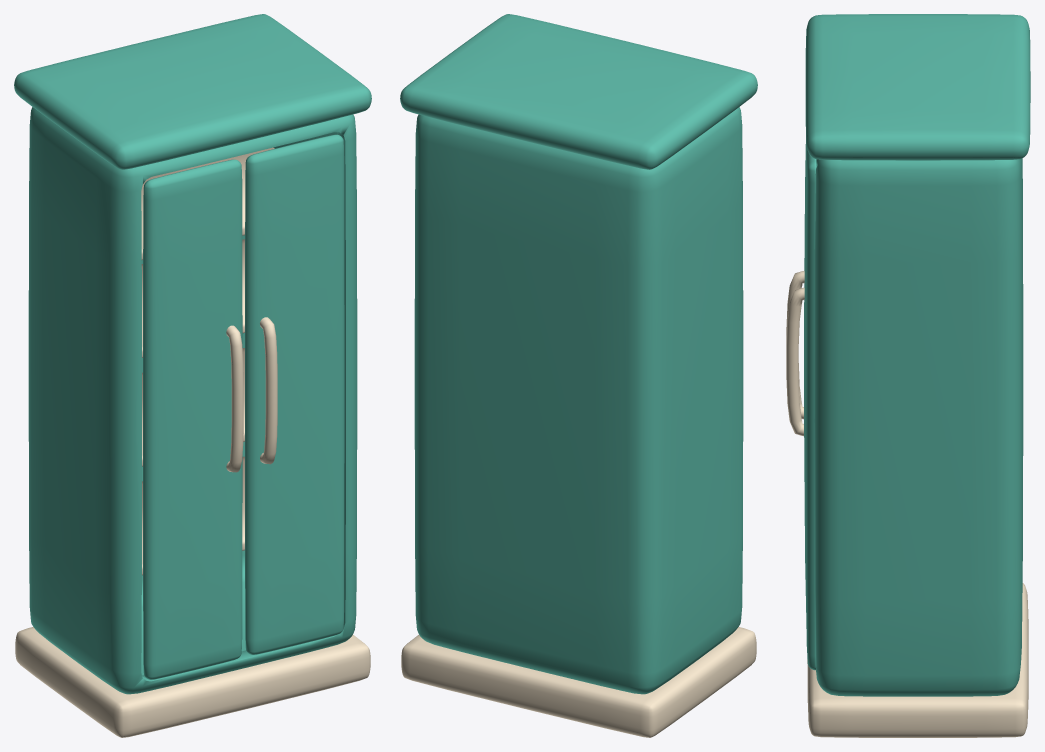
Rendered from pantry_a.glb.
The picture shows the model from 3 angles, left to right: view 1: azimuth 30°, elevation 25°; view 2: azimuth 150°, elevation 25°; view 3: azimuth 270°, elevation 25°; orthographic projection.
Visible parts, largest first — view 1: body, door_l, door_r; view 2: body; view 3: body, door_r, door_l.
Boxes of the visible parts, x1,y1,x2,y2 form: body: (14,14,371,737); door_l: (143,159,243,679); door_r: (245,134,344,654); body: (400,14,757,737); body: (805,14,1030,737); door_r: (786,147,816,670); door_l: (786,139,806,419).
Size of the model in its own units: 0.84 by 1.85 by 0.673.
